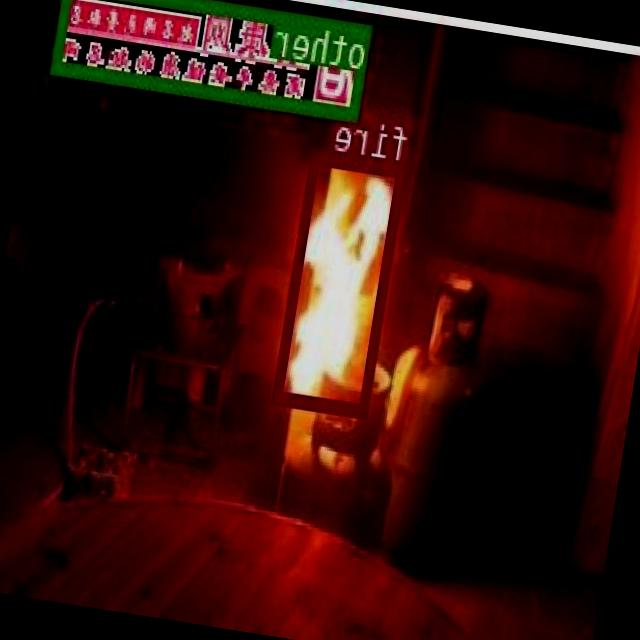fire: (275, 148, 410, 416)
